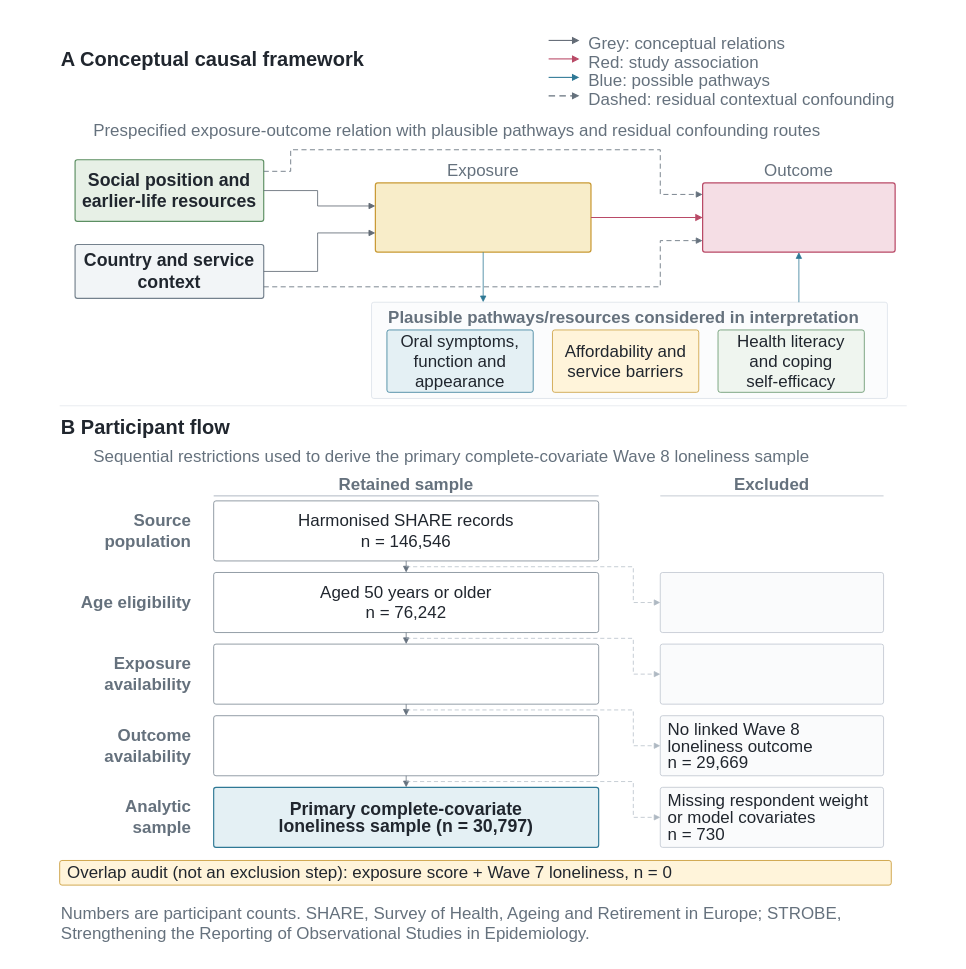
Image size: 966x969. Some labels were removed from this diagram. The shapes that lost their labels are listed below. From the top down, each one's box as (x1, y1, x2, y2) in pixels, then its label:
(374, 182, 591, 252): Life-course dental-care disadvantage
(702, 182, 895, 252): Loneliness in adults aged 50 years and older
(660, 572, 884, 633): Age criterion not met or age unavailable n = 70,304
(213, 643, 599, 704): Computable life-course dental-care disadvantage score (n = 61,196)
(660, 643, 884, 704): Score not computable (<3 observed components) n = 15,046
(213, 715, 599, 776): Wave 8 loneliness outcome available n = 31,527
